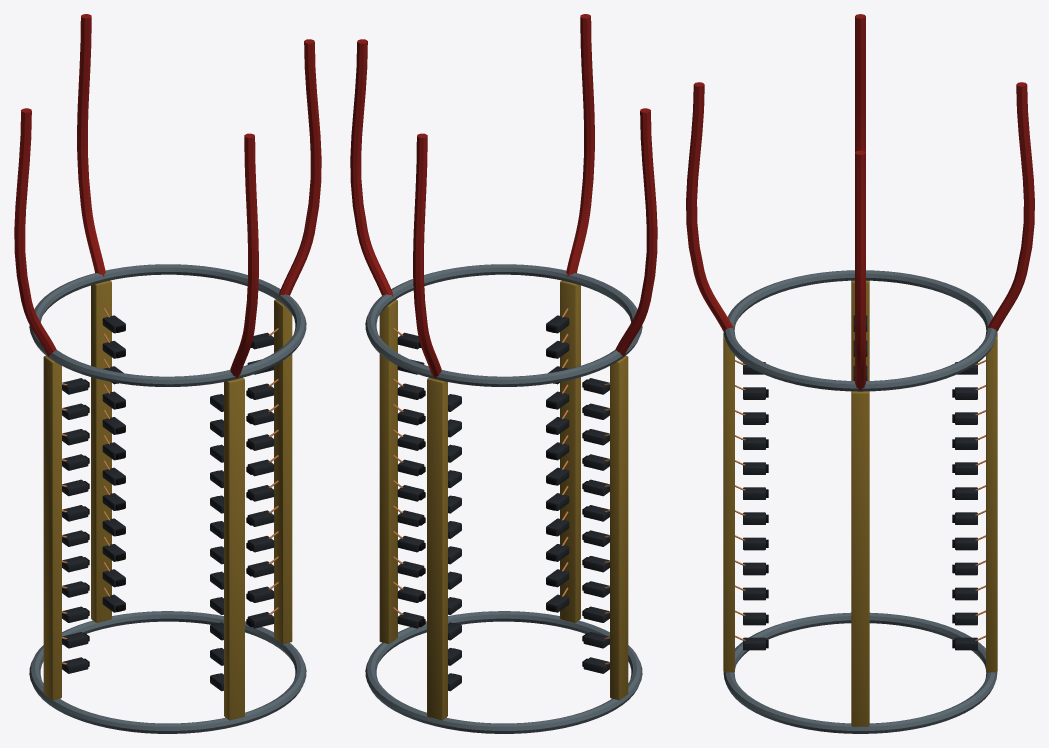
The model's file is brushgear.glb.
3 views of the same model, side by side, from view 1: azimuth 30°, elevation 25°; view 2: azimuth 150°, elevation 25°; view 3: azimuth 270°, elevation 25° (orthographic).
Parts seen in each view (by area): view 1: brushes; view 2: brushes; view 3: brushes.
Part boxes in pixels (<box>): brushes: <box>14,14,321,733</box>; brushes: <box>350,14,657,733</box>; brushes: <box>686,14,1034,733</box>.
Bounding box in the file's own units: 7.57 × 14.22 × 7.57.
